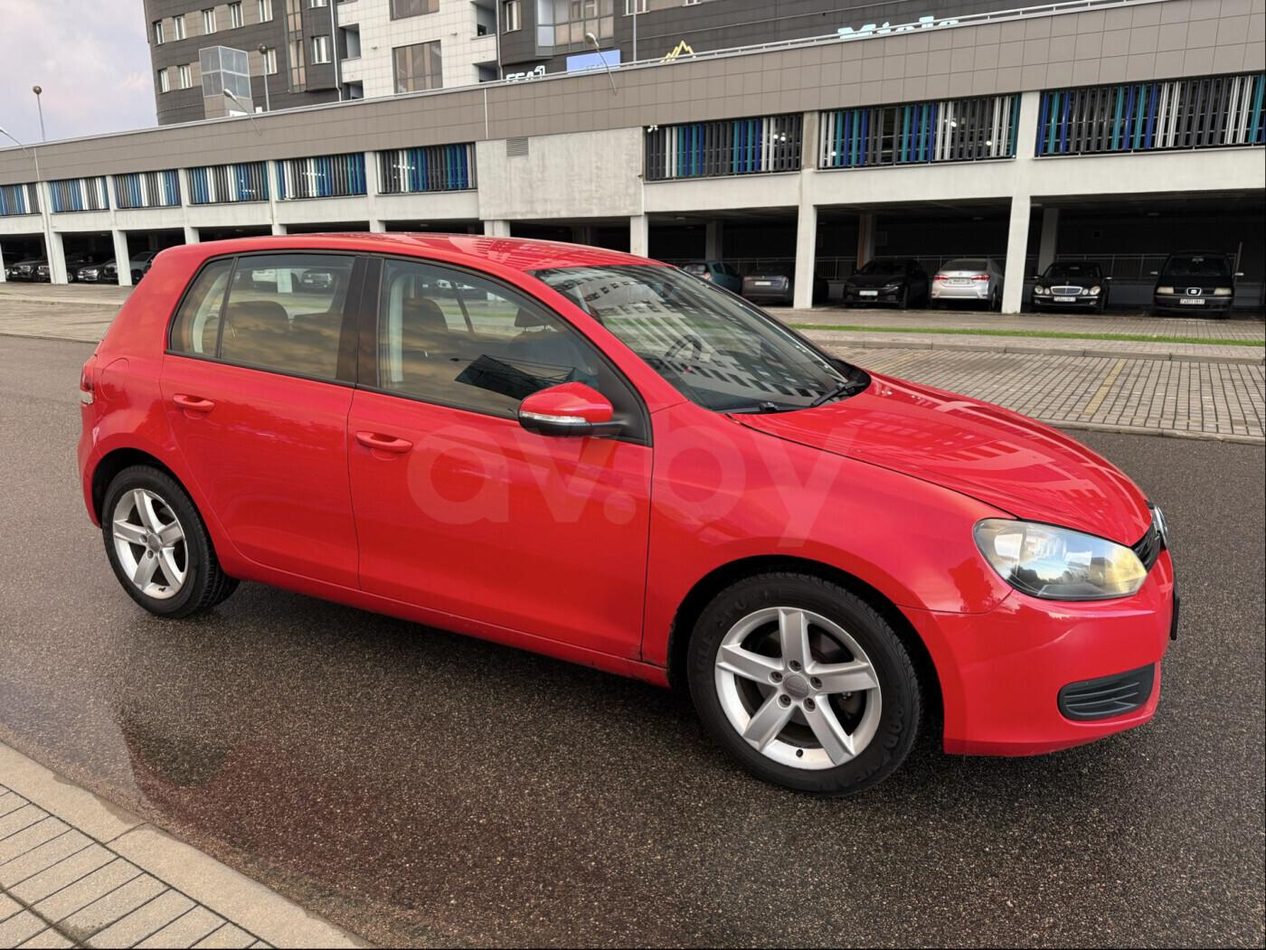Golf_2008-2013: (63, 226, 1181, 795)
